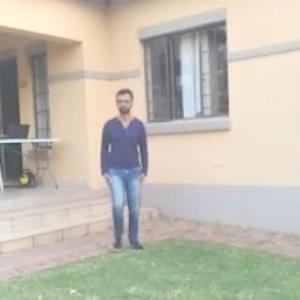follow: (99, 80, 151, 263)
